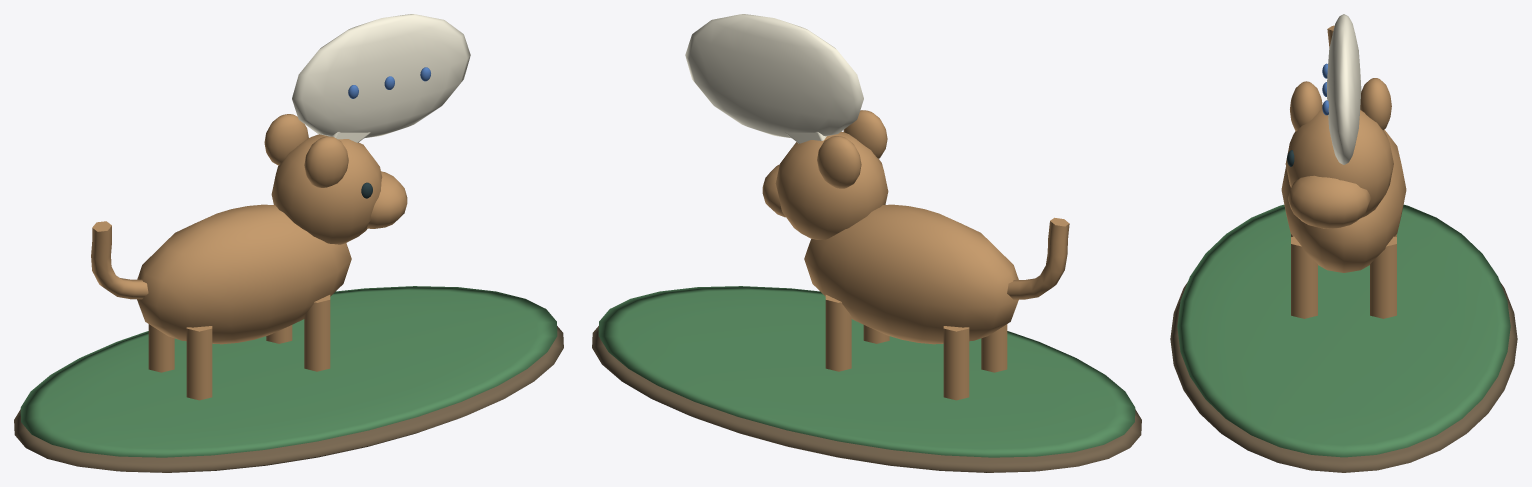
File: talking-dog.glb
The picture shows the model from 3 angles, left to right: view 1: azimuth 30°, elevation 25°; view 2: azimuth 150°, elevation 25°; view 3: azimuth 270°, elevation 25°; orthographic projection. The views are drawn at different scales.
Parts seen in each view (by area): view 1: talking-dog_surface_01, talking-dog_surface_02, talking-dog_surface_04, talking-dog_surface_00; view 2: talking-dog_surface_01, talking-dog_surface_02, talking-dog_surface_04, talking-dog_surface_00; view 3: talking-dog_surface_01, talking-dog_surface_02, talking-dog_surface_00, talking-dog_surface_04.
Boxes of the visible parts, x1=… form: talking-dog_surface_01: x1=20, y1=286, x2=557, y2=457; talking-dog_surface_02: x1=91, y1=114, x2=407, y2=400; talking-dog_surface_04: x1=292, y1=14, x2=470, y2=142; talking-dog_surface_00: x1=14, y1=326, x2=563, y2=472; talking-dog_surface_01: x1=598, y1=286, x2=1135, y2=457; talking-dog_surface_02: x1=762, y1=110, x2=1069, y2=400; talking-dog_surface_04: x1=685, y1=14, x2=863, y2=143; talking-dog_surface_00: x1=592, y1=326, x2=1141, y2=472; talking-dog_surface_01: x1=1177, y1=204, x2=1510, y2=457; talking-dog_surface_02: x1=1281, y1=25, x2=1406, y2=318; talking-dog_surface_00: x1=1170, y1=282, x2=1517, y2=472; talking-dog_surface_04: x1=1327, y1=14, x2=1361, y2=164.
Bounding box in the file's own units: 4.56 × 2.97 × 2.5.
